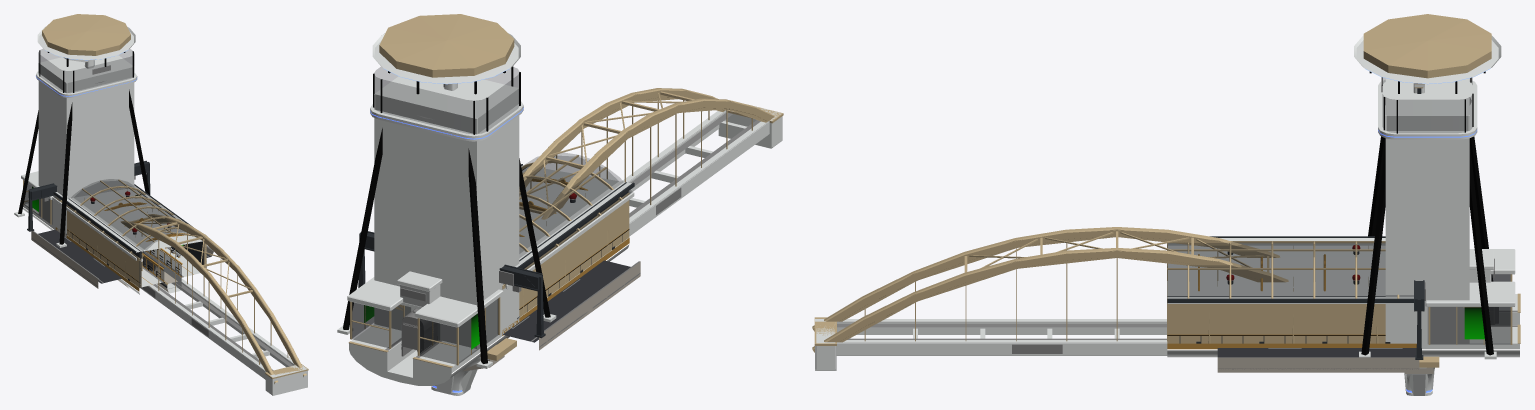
The model's file is meridian-transit-kit.glb.
3 views of the same model, side by side, from view 1: azimuth 30°, elevation 25°; view 2: azimuth 150°, elevation 25°; view 3: azimuth 270°, elevation 25° (orthographic). The views are drawn at different scales.
Visible parts, largest first — view 1: gondola-terminal-lod / Meridian white composite, monorail-bridge-span / Meridian champagne, station-module-crown / Meridian clear glass, monorail-bridge-span / Meridian white composite, station-module-stackyard / Meridian white composite, gondola-terminal-lod / Meridian champagne, station-module-crown-lod / Meridian clear glass, gondola-terminal / Meridian clear glass, station-module-crown-lod / Meridian champagne, gondola-terminal / Meridian graphite, gondola-terminal / Meridian white composite, station-module-crown / Meridian champagne (+18 smaller); view 2: gondola-terminal-lod / Meridian white composite, station-end / Meridian white composite, monorail-bridge-span / Meridian champagne, gondola-terminal-lod / Meridian champagne, station-module-crown / Meridian clear glass, gondola-terminal / Meridian clear glass, monorail-bridge-span / Meridian white composite, station-end / Meridian clear glass, gondola-terminal / Meridian graphite, station-end-lod / Meridian clear glass, station-module-crown-lod / Meridian champagne, station-module-stackyard / Meridian white composite (+20 smaller); view 3: gondola-terminal-lod / Meridian white composite, monorail-bridge-span / Meridian champagne, station-module-crown / Meridian clear glass, station-module-stackyard / Meridian white composite, station-module-crown-lod / Meridian clear glass, monorail-bridge-span / Meridian white composite, station-module-crown-lod / Meridian champagne, gondola-terminal-lod / Meridian champagne, gondola-terminal / Meridian graphite, station-end / Meridian white composite, gondola-terminal / Meridian white composite, gondola-terminal / Meridian clear glass (+12 smaller).
Boxes of the visible parts, left/top/right/bottom form: gondola-terminal-lod / Meridian white composite: left=38, top=55, right=134, bottom=237; monorail-bridge-span / Meridian champagne: left=121, top=214, right=308, bottom=383; station-module-crown / Meridian clear glass: left=54, top=179, right=184, bottom=280; monorail-bridge-span / Meridian white composite: left=140, top=279, right=307, bottom=394; station-module-stackyard / Meridian white composite: left=55, top=185, right=202, bottom=252; gondola-terminal-lod / Meridian champagne: left=42, top=14, right=130, bottom=55; station-module-crown-lod / Meridian clear glass: left=55, top=181, right=186, bottom=258; gondola-terminal / Meridian clear glass: left=38, top=49, right=134, bottom=92; station-module-crown-lod / Meridian champagne: left=67, top=210, right=206, bottom=287; gondola-terminal / Meridian graphite: left=18, top=50, right=149, bottom=244; gondola-terminal / Meridian white composite: left=14, top=27, right=137, bottom=247; station-module-crown / Meridian champagne: left=55, top=179, right=206, bottom=277; gondola-terminal-lod / Meridian white composite: left=374, top=76, right=519, bottom=352; station-end / Meridian white composite: left=347, top=271, right=503, bottom=385; monorail-bridge-span / Meridian champagne: left=519, top=88, right=783, bottom=219; gondola-terminal-lod / Meridian champagne: left=379, top=14, right=514, bottom=77; station-module-crown / Meridian clear glass: left=519, top=153, right=631, bottom=269; gondola-terminal / Meridian clear glass: left=374, top=67, right=519, bottom=133; monorail-bridge-span / Meridian white composite: left=622, top=109, right=782, bottom=235; station-end / Meridian clear glass: left=352, top=285, right=498, bottom=363; gondola-terminal / Meridian graphite: left=343, top=66, right=550, bottom=363; station-end-lod / Meridian clear glass: left=352, top=299, right=497, bottom=363; station-module-crown-lod / Meridian champagne: left=519, top=200, right=629, bottom=316; station-module-stackyard / Meridian white composite: left=515, top=165, right=631, bottom=267; gondola-terminal-lod / Meridian white composite: left=1385, top=78, right=1469, bottom=343; monorail-bridge-span / Meridian champagne: left=812, top=227, right=1288, bottom=352; station-module-crown / Meridian clear glass: left=1167, top=241, right=1413, bottom=298; station-module-stackyard / Meridian white composite: left=1167, top=238, right=1413, bottom=298; station-module-crown-lod / Meridian clear glass: left=1168, top=243, right=1385, bottom=296; monorail-bridge-span / Meridian white composite: left=815, top=321, right=1167, bottom=370; station-module-crown-lod / Meridian champagne: left=1167, top=304, right=1385, bottom=343; gondola-terminal-lod / Meridian champagne: left=1363, top=14, right=1491, bottom=78; gondola-terminal / Meridian graphite: left=1361, top=71, right=1493, bottom=355; station-end / Meridian white composite: left=1421, top=249, right=1519, bottom=357; gondola-terminal / Meridian white composite: left=1354, top=35, right=1501, bottom=359; gondola-terminal / Meridian clear glass: left=1382, top=78, right=1472, bottom=132.
Bounding box in the file's own units: 25.26 × 45.7 × 84.39.
